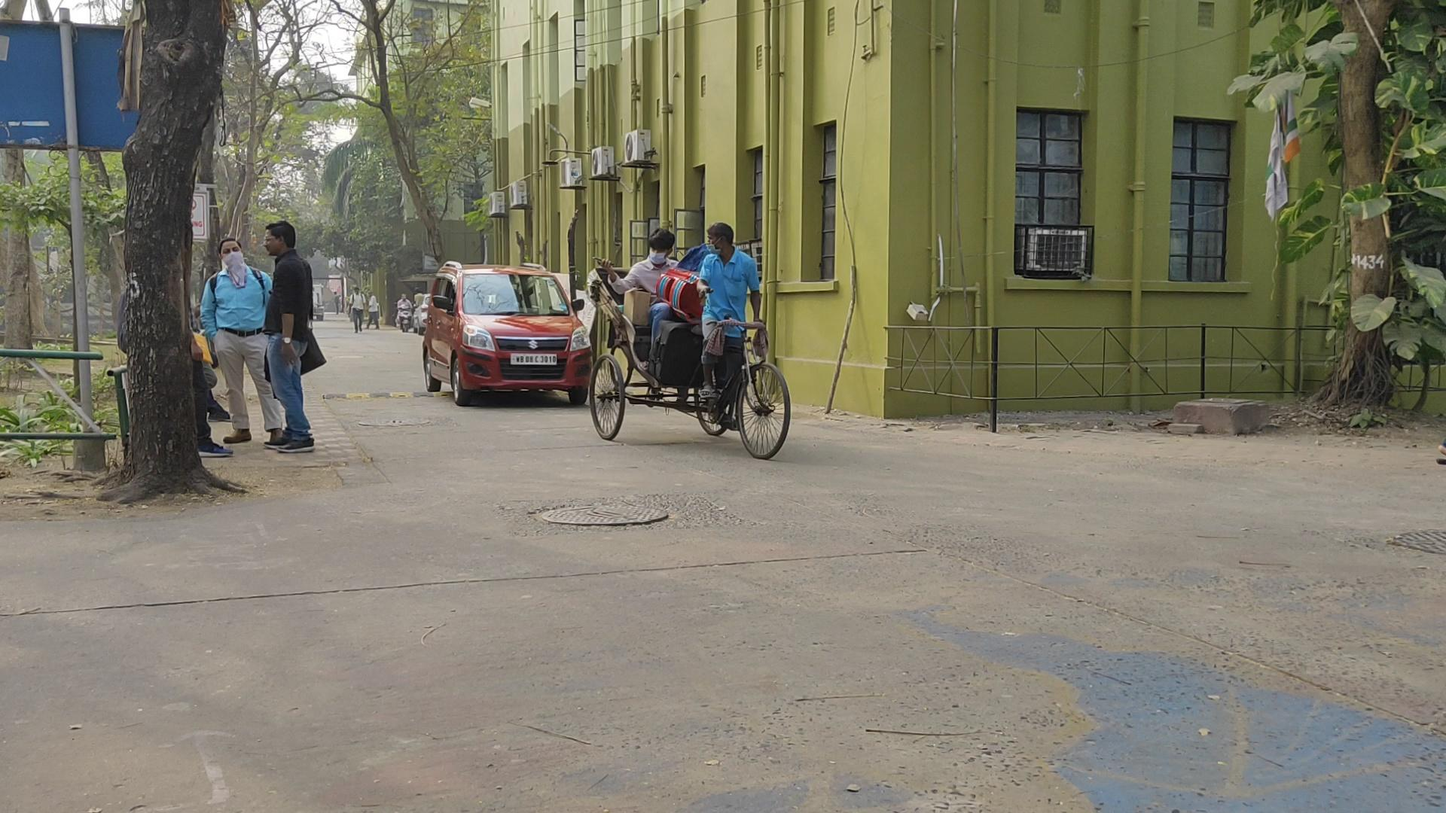bike: (395, 293, 414, 334)
car: (422, 261, 595, 410)
